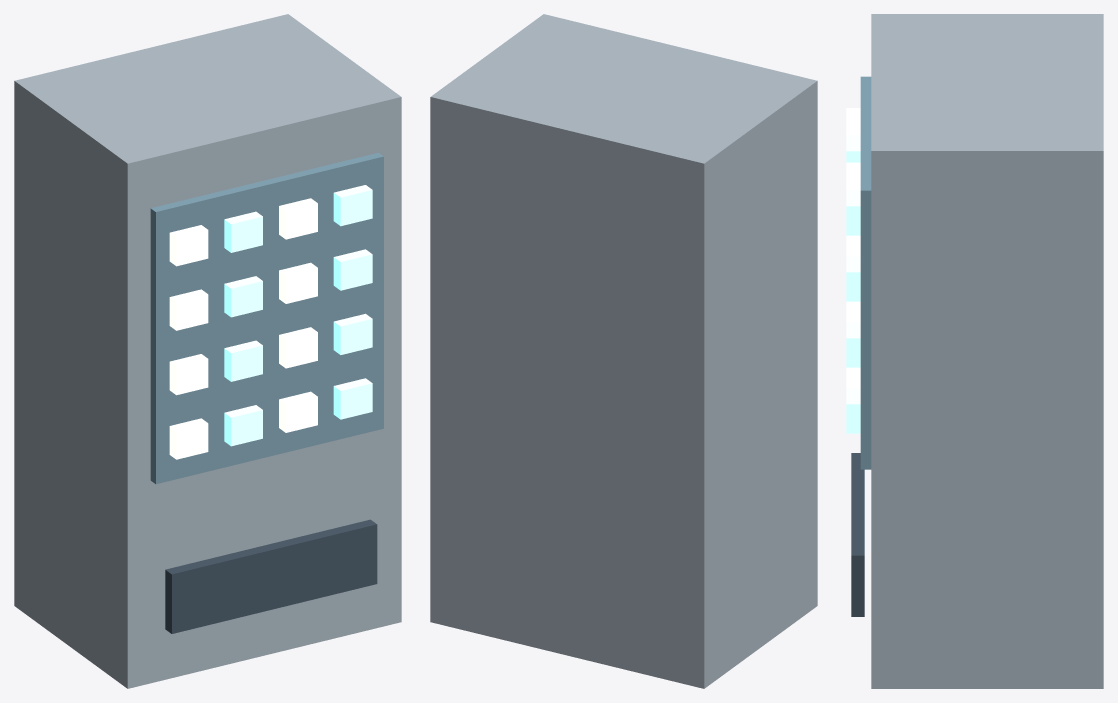
Rendered from vending.glb.
The picture shows the model from 3 angles, left to right: view 1: azimuth 30°, elevation 25°; view 2: azimuth 150°, elevation 25°; view 3: azimuth 270°, elevation 25°; orthographic projection. The views are drawn at different scales.
Visible parts, largest first — view 1: alum, glass, dark, neon, warm; view 2: alum; view 3: alum, glass, neon, dark, warm.
Part boxes in pixels (x1,y1,x2,y2): alum: [14, 14, 401, 688]; glass: [150, 152, 383, 484]; dark: [165, 519, 377, 633]; neon: [224, 185, 372, 446]; warm: [169, 198, 317, 459]; alum: [430, 14, 817, 688]; alum: [871, 14, 1103, 688]; glass: [860, 76, 871, 469]; neon: [846, 135, 860, 433]; dark: [851, 453, 864, 616]; warm: [846, 108, 860, 388].
Size of the model in its own units: 1.2 by 2.2 by 0.9525.
